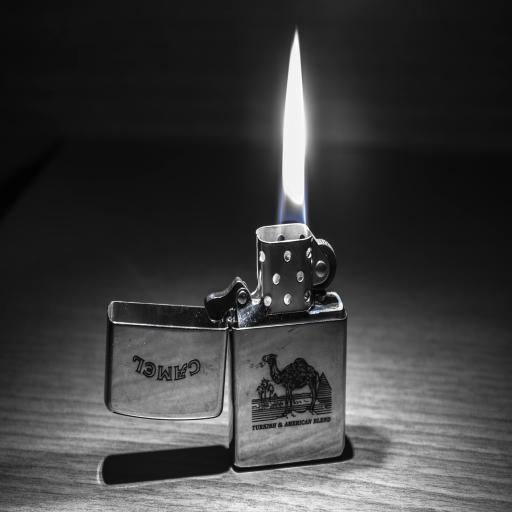lighter: (46, 14, 432, 480)
